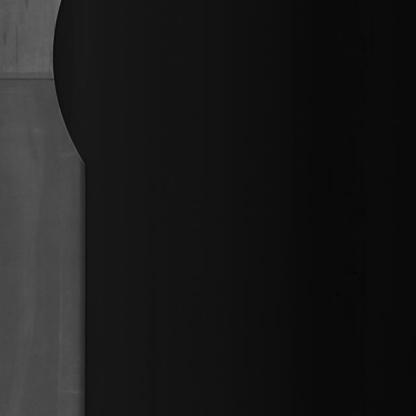crescent_gap: (44, 2, 96, 181)
welding_line: (1, 67, 74, 105)
